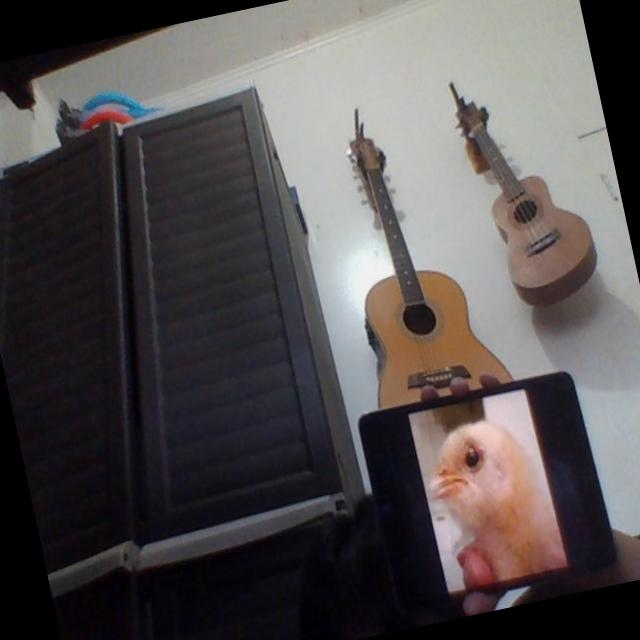Sick: (420, 407, 571, 594)
